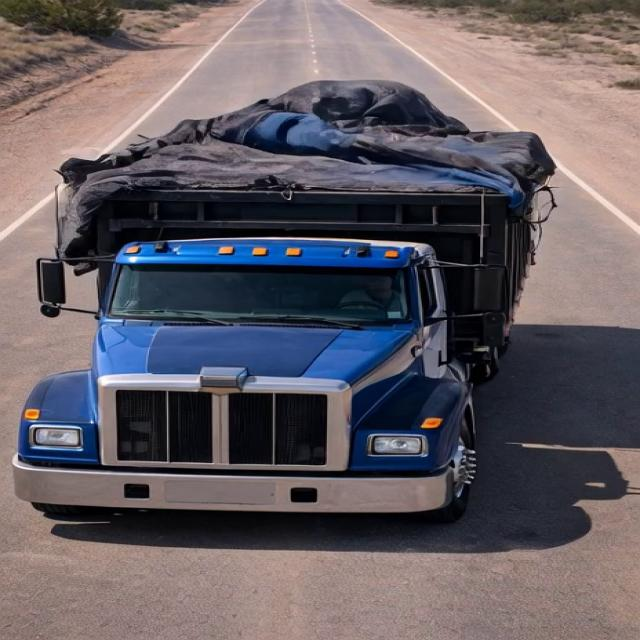Box: (61, 78, 543, 248)
Truck: (10, 63, 558, 536)
